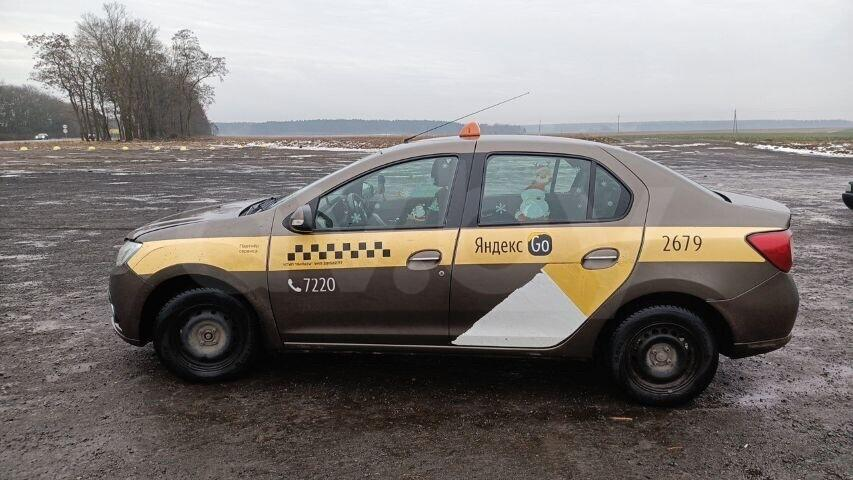Logan_2018: (105, 133, 803, 416)
